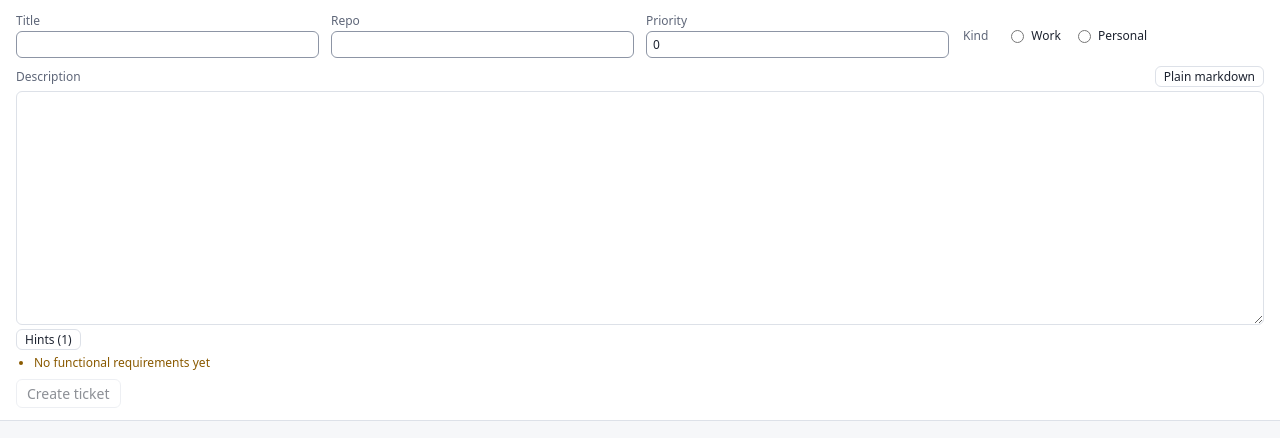
Scenario: Repo field (searchable, most used first) › defaults to the top repo and lists every repo in ranked order
The width and height of the screenshot is (1280, 438).
Type "T" into the field labelled "Title" at (168, 44), box [16,31,319,58]
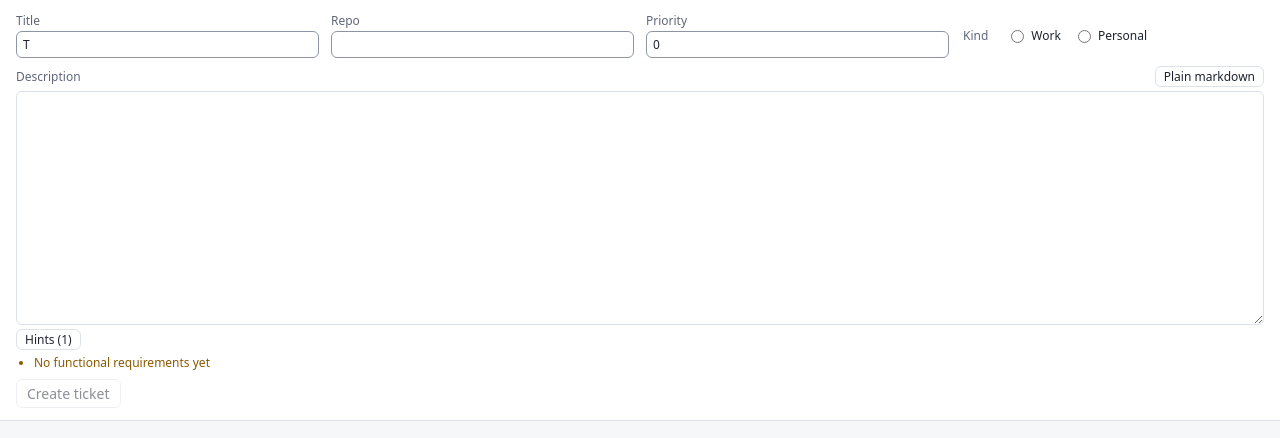
Click the radio button labelled "Work" at (1018, 36), box [1011,30,1024,43]
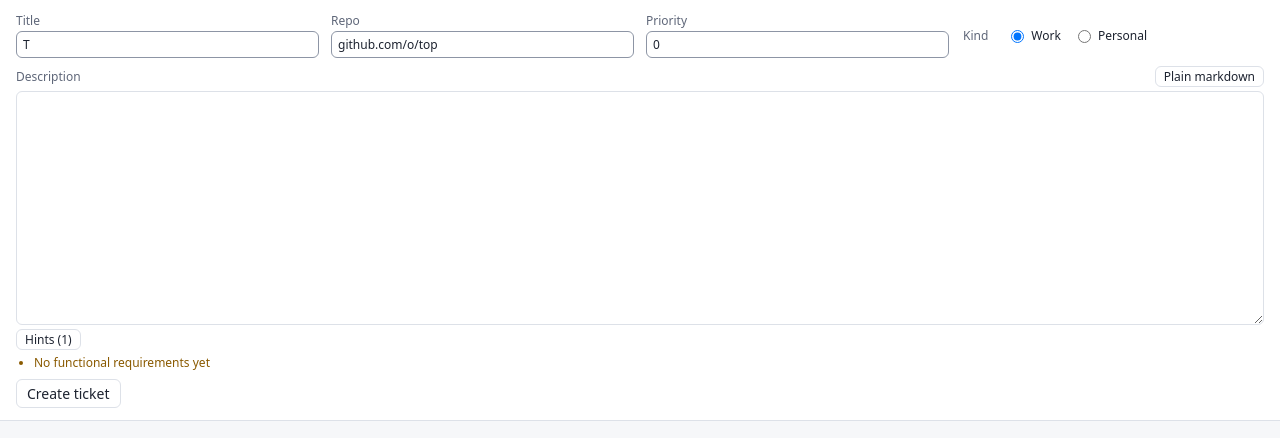
Expected: the dropdown labelled "Repo" holds "github.com/o/top"
Focus the dropdown labelled "Repo" at (482, 44), box [331,31,634,58]
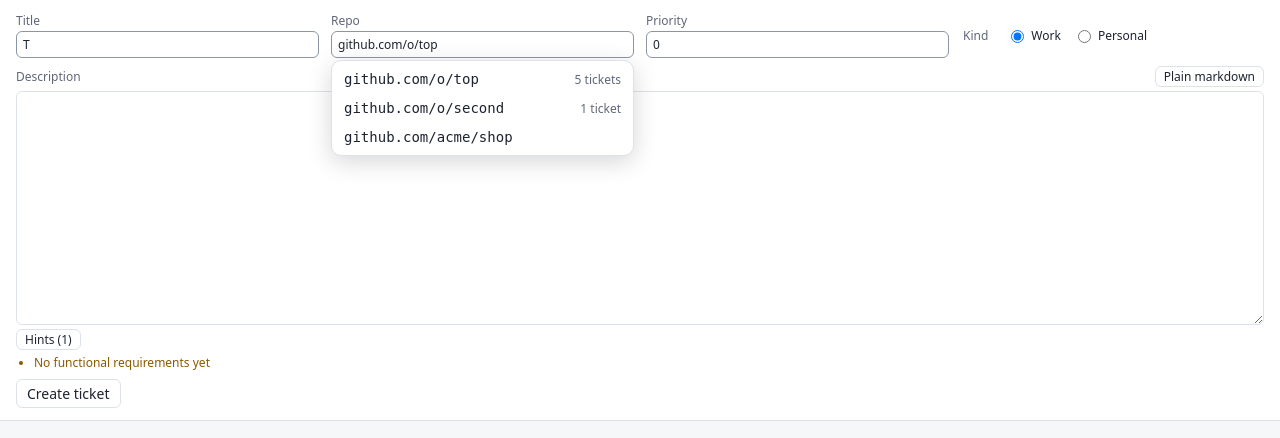
Expected: the text "5 tickets" is shown, [574,71,621,88]
